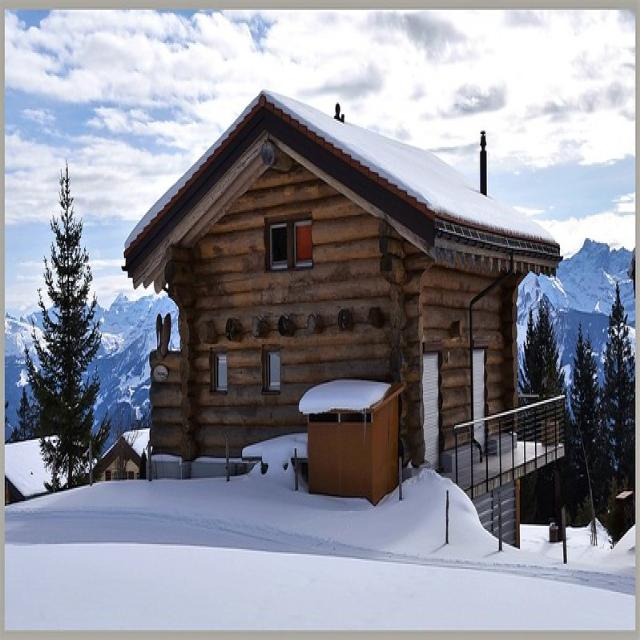building: (119, 80, 564, 542)
